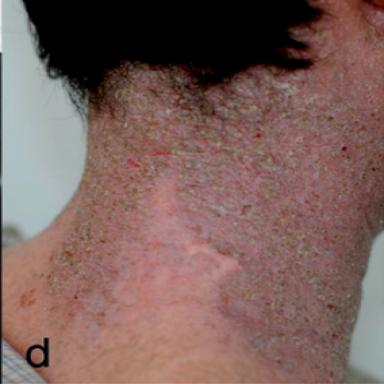Darier_s-Disease: (37, 16, 383, 383)
